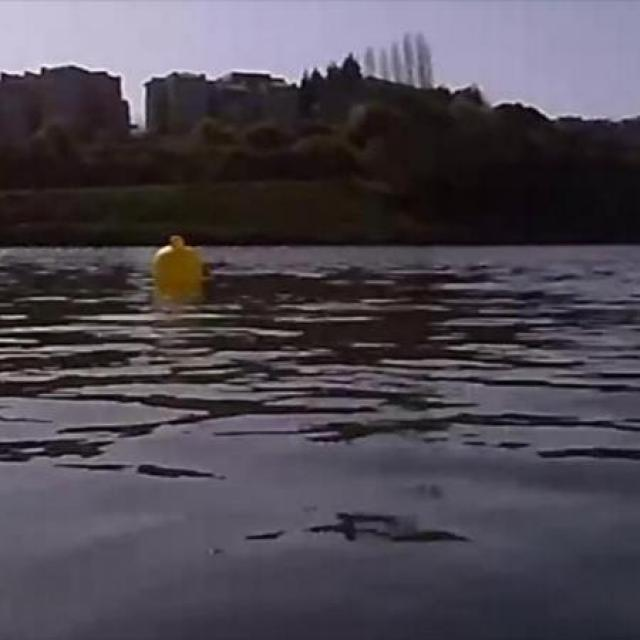buoy: (152, 235, 204, 290)
